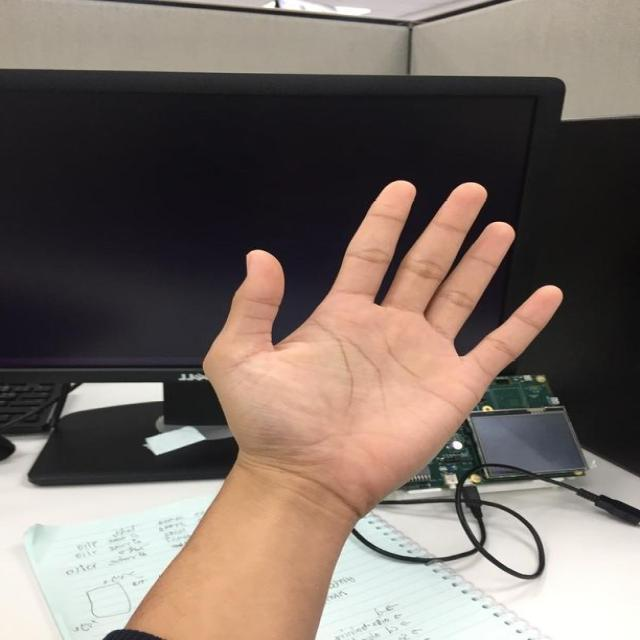hand: (192, 173, 568, 546)
